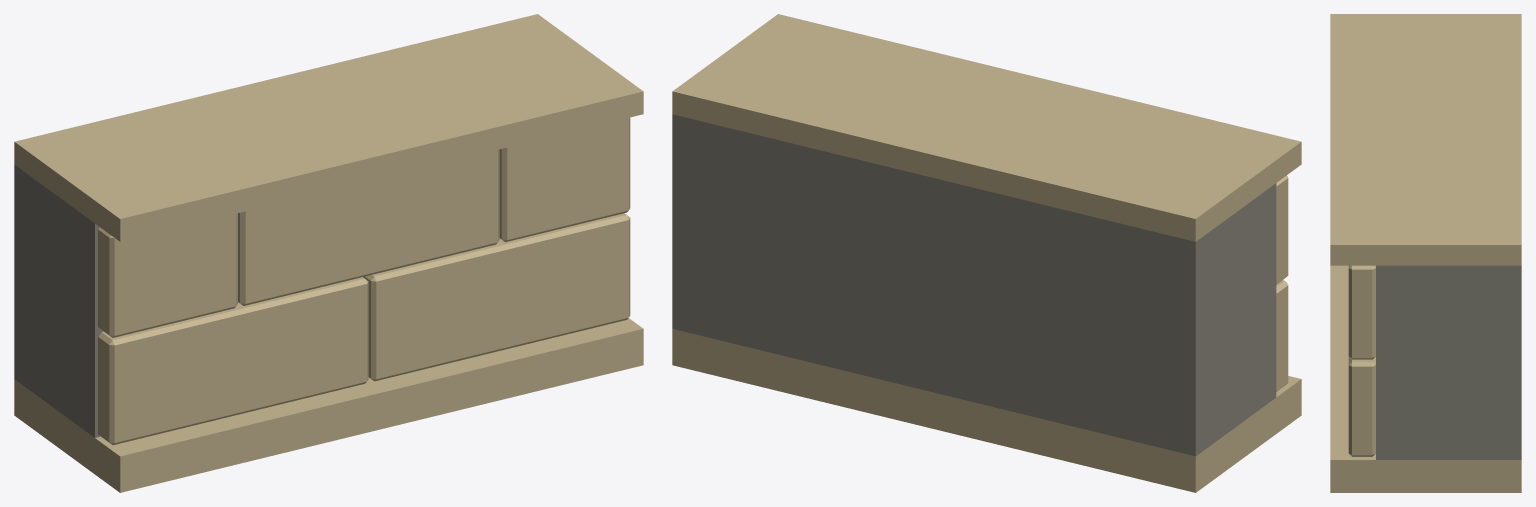
Rendered from rpg-mansion-rusticated-plinth-segment-01.glb.
3 renders of one model, left to right at view 1: azimuth 30°, elevation 25°; view 2: azimuth 150°, elevation 25°; view 3: azimuth 270°, elevation 25°, orthographic. The views are drawn at different scales.
Visible parts, largest first — view 1: rpg-mansion-rusticated-plinth-segment-01; view 2: rpg-mansion-rusticated-plinth-segment-01; view 3: rpg-mansion-rusticated-plinth-segment-01.
Boxes of the visible parts, x1=… form: rpg-mansion-rusticated-plinth-segment-01: x1=14, y1=14, x2=643, y2=492; rpg-mansion-rusticated-plinth-segment-01: x1=672, y1=14, x2=1301, y2=492; rpg-mansion-rusticated-plinth-segment-01: x1=1330, y1=14, x2=1521, y2=492.
Size of the model in its own units: 1.2 by 0.6 by 0.42.
